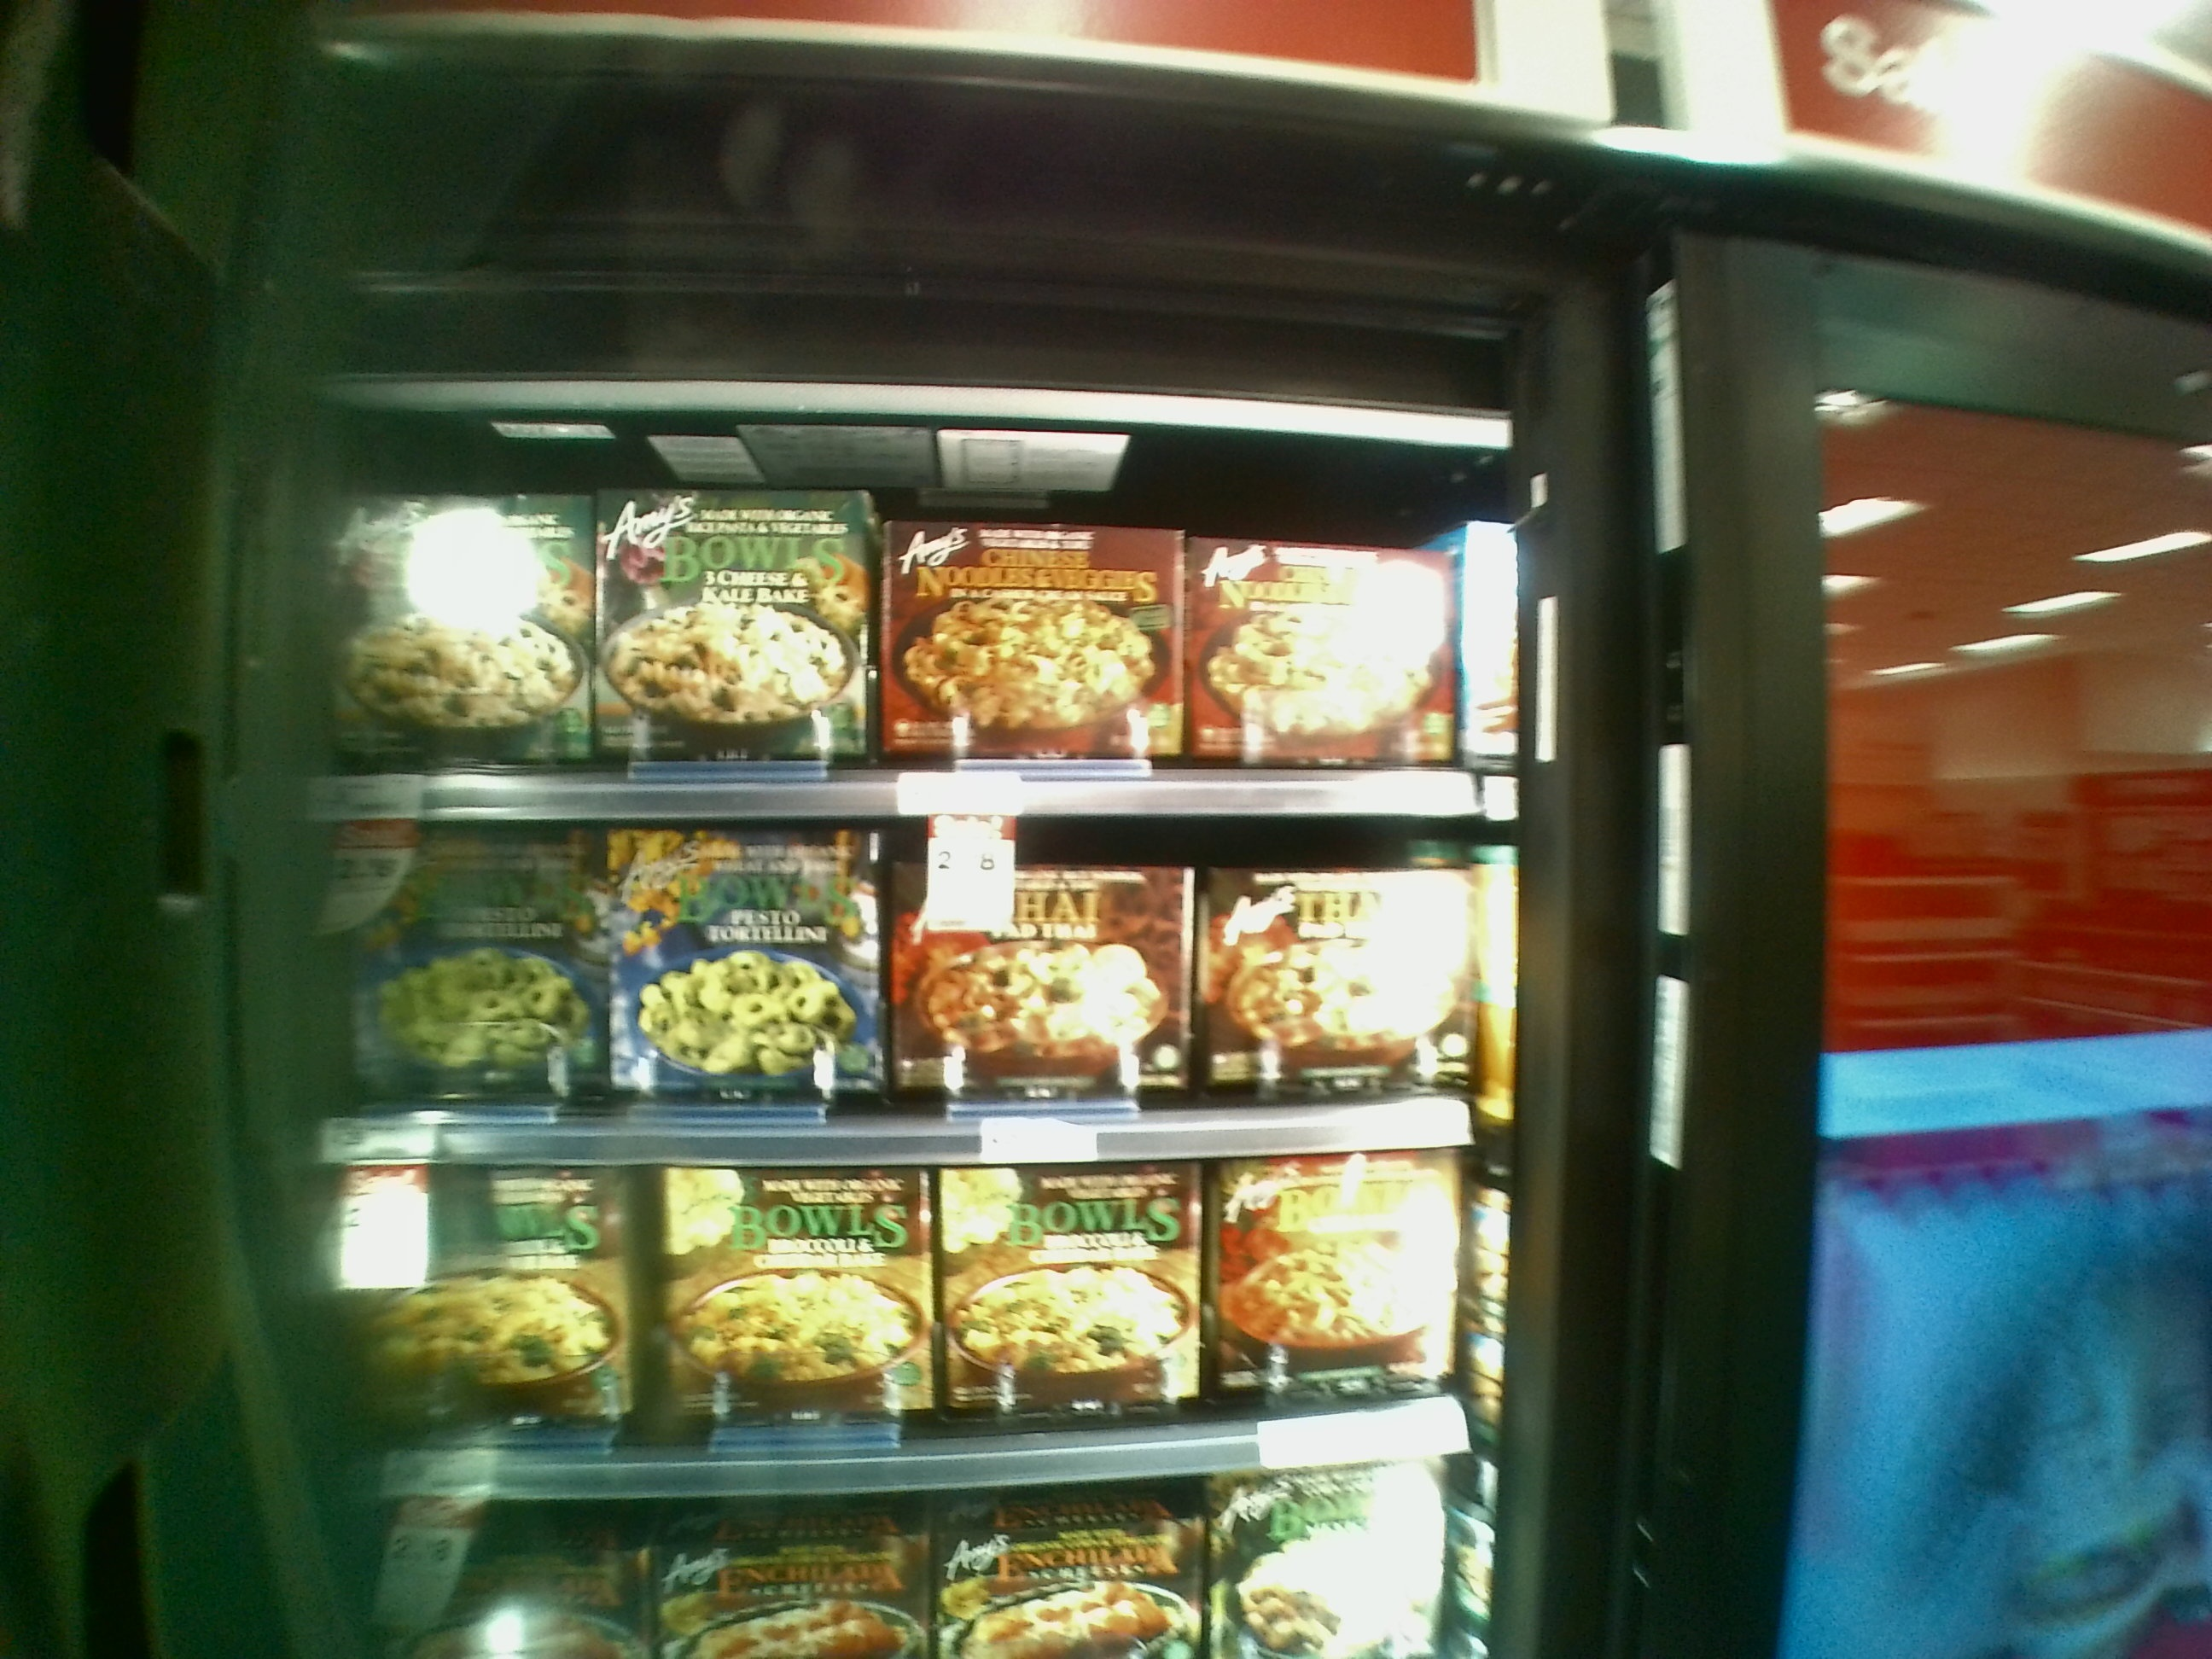shelf: (314, 408, 1472, 814), (314, 816, 1498, 1161), (364, 1147, 1465, 1497)
